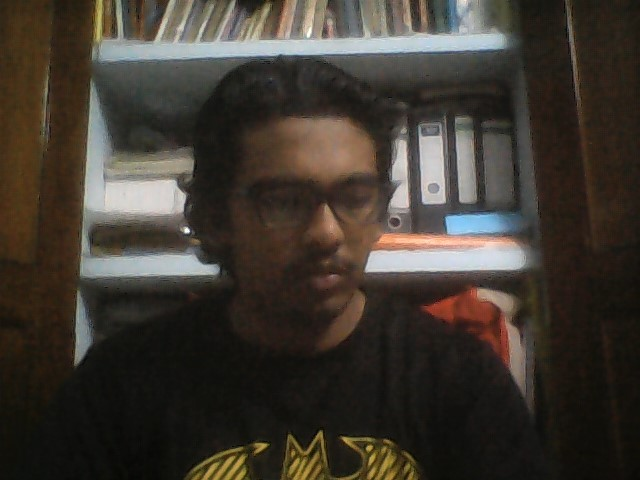person: (55, 56, 496, 470)
